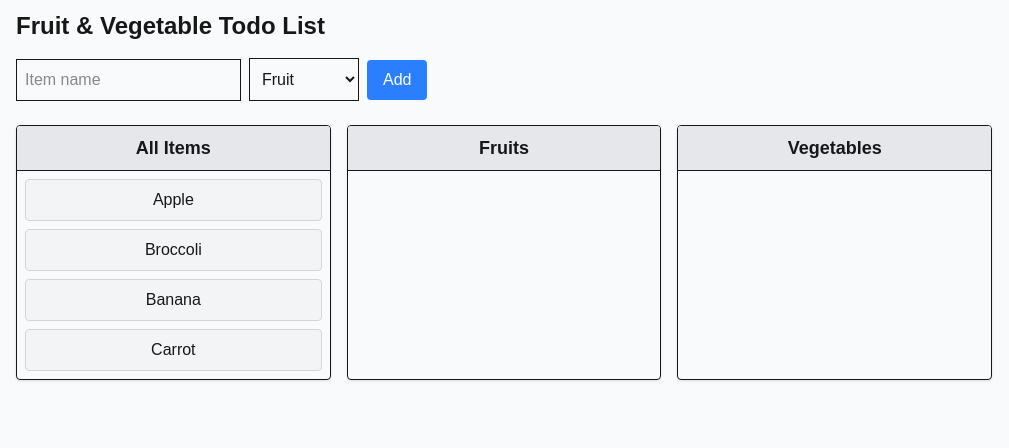
it: Todo List App › adds a new item and shows success alert
The width and height of the screenshot is (1009, 448).
Type "TestFruit" into the field with placeholder "Item name".
click(128, 80); type("TestFruit")  # box [16,59,241,101]
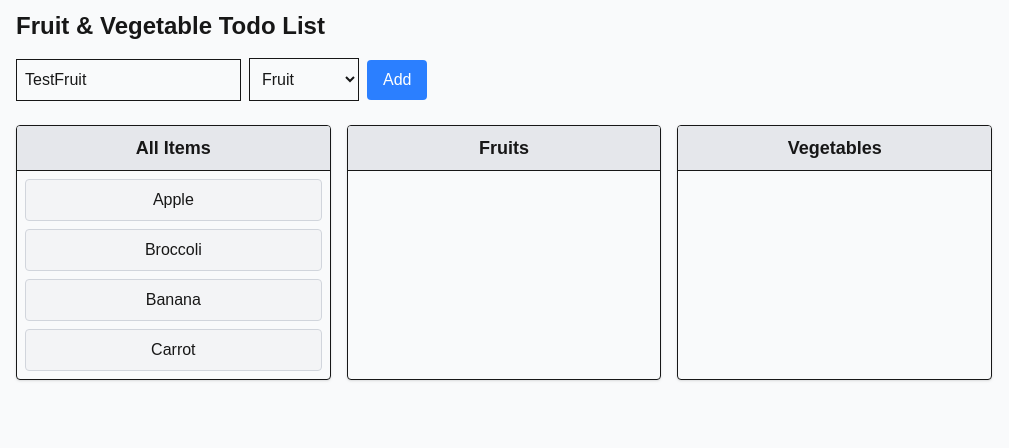
Select "Fruit" in the dropdown showing "Fruit" at (304, 80), box [249,58,359,101]
Click the button "Add".
click(397, 80)  # box [367,60,428,100]
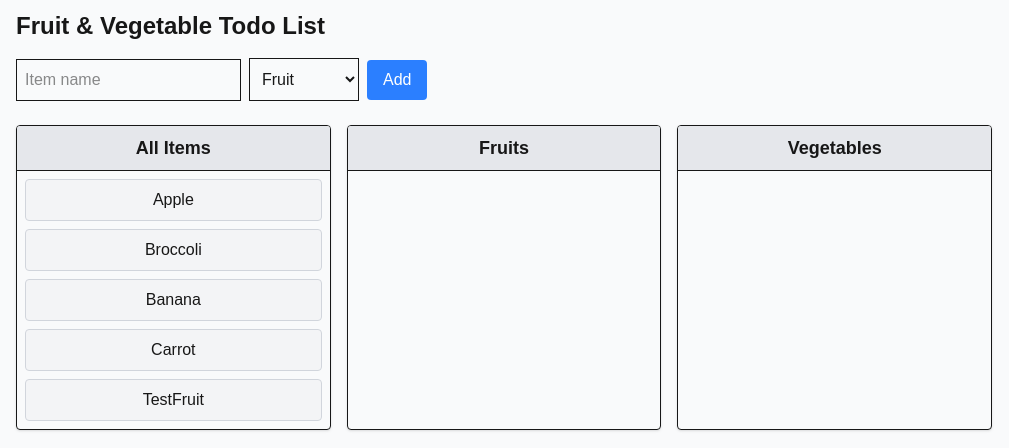
Result: the button "TestFruit" is shown at [25,379,322,421]
